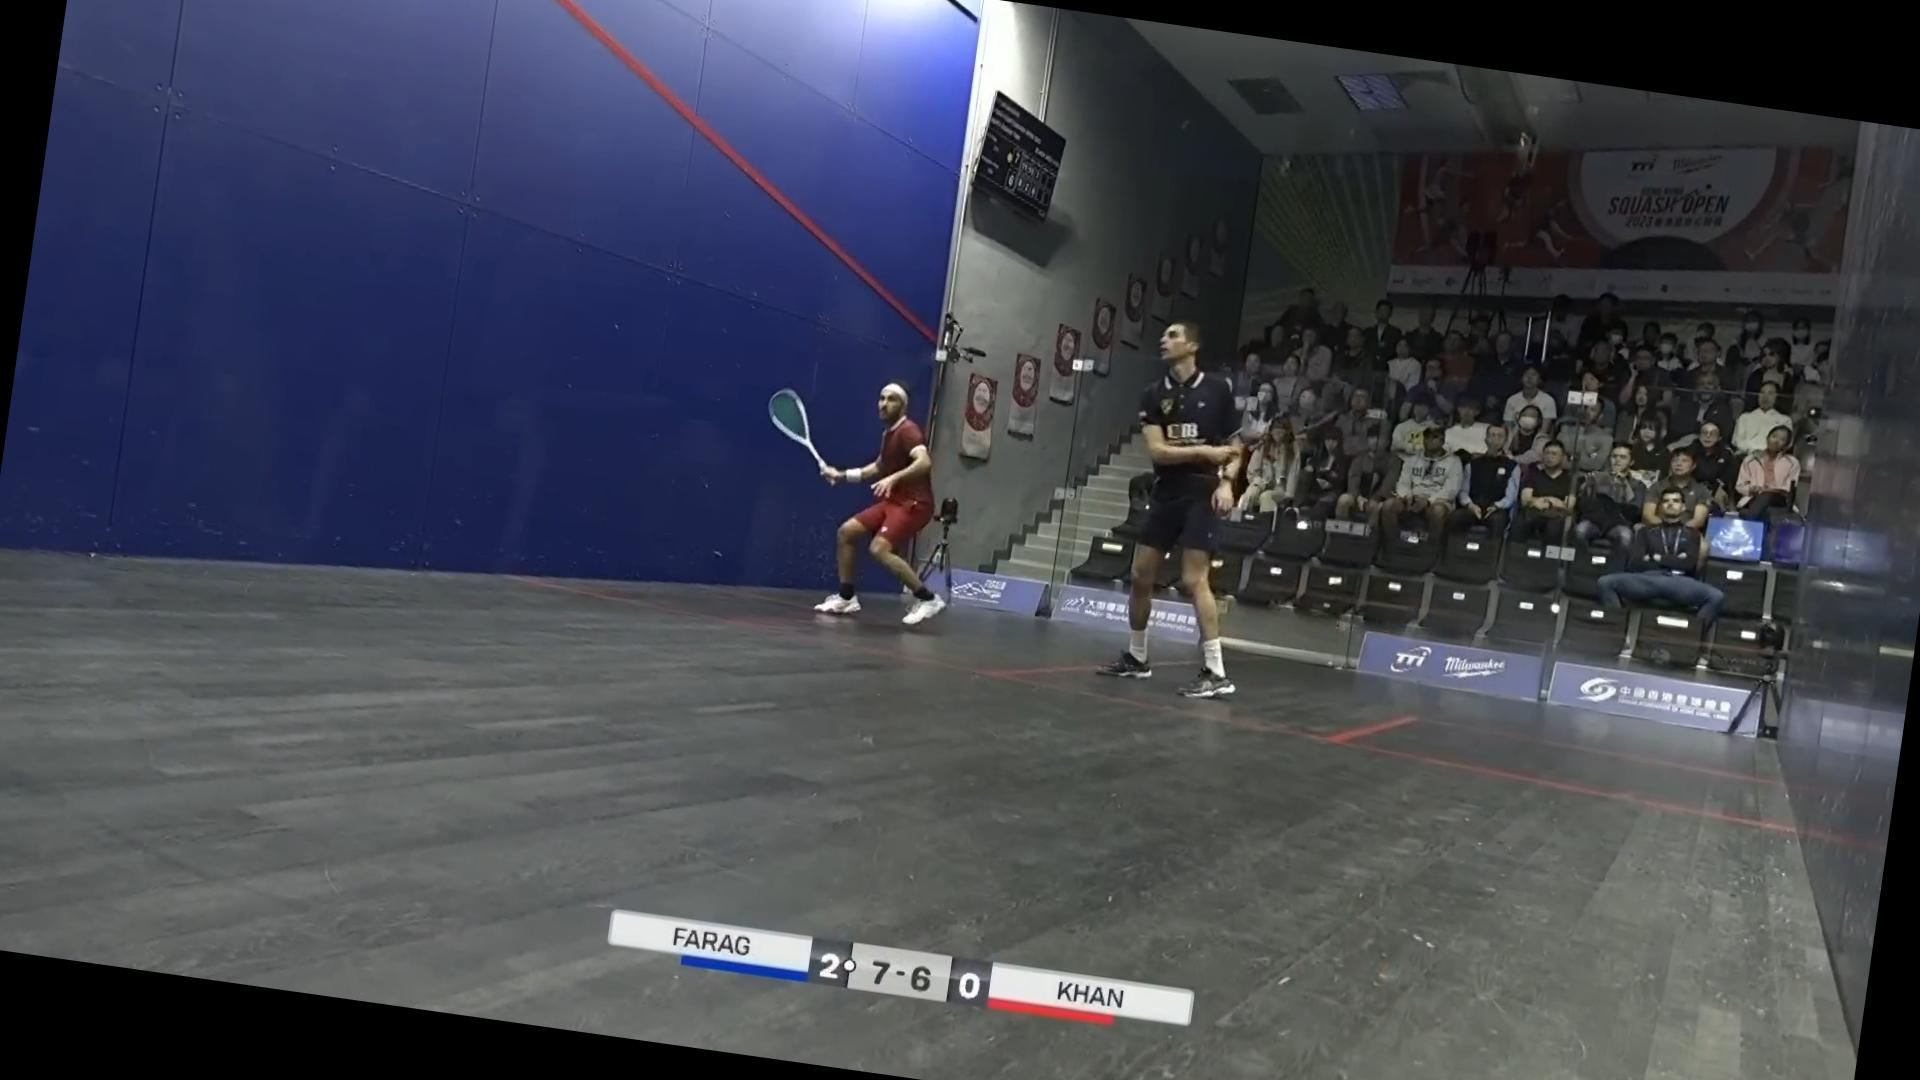Racket: (760, 369, 839, 469)
